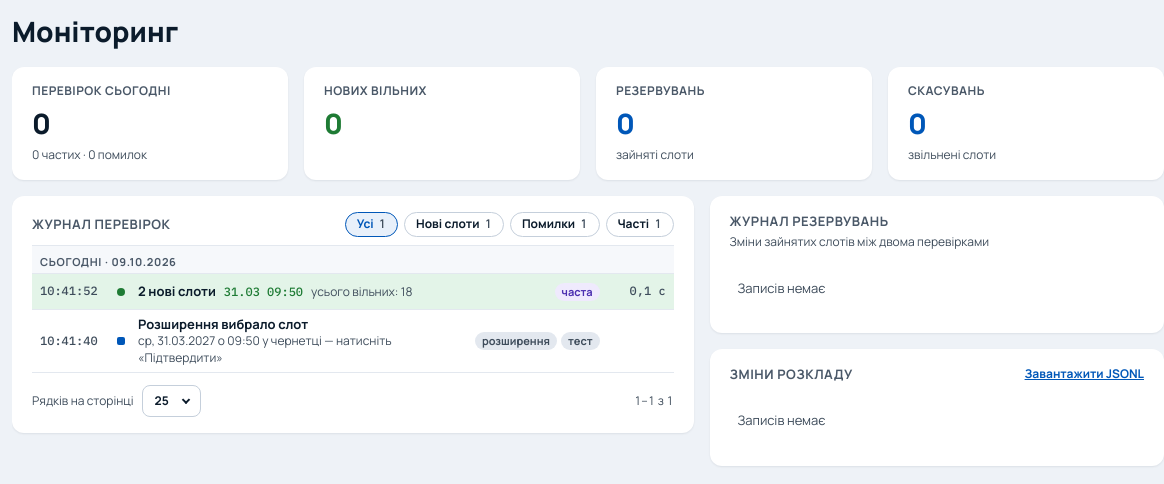
Test case: MonitoringView › hides extension events under the filters other than "Усі" and marks test events
This screenshot has width=1164, height=484.
Check: the text "Розширення вибрало слот" is shown, box [138,315,308,333]
Check: the text "тест" is shown, box [561,332,600,350]
Click the button "Нові слоти1": coordinates (454, 224) [404,212,504,237]
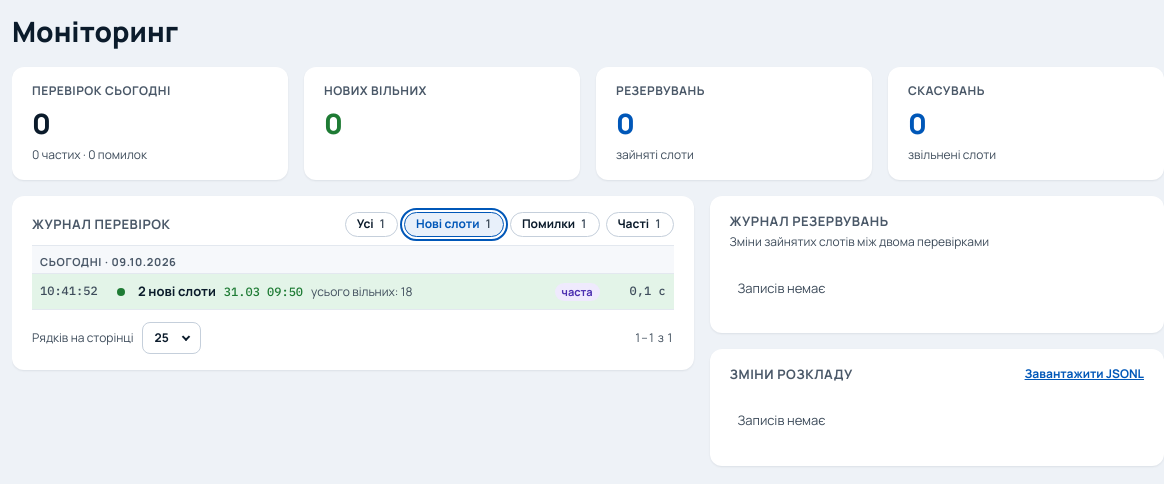
Check: the text "2 нові слоти" is shown, box [138,282,216,300]
Check: the text "Розширення вибрало слот" is gone
